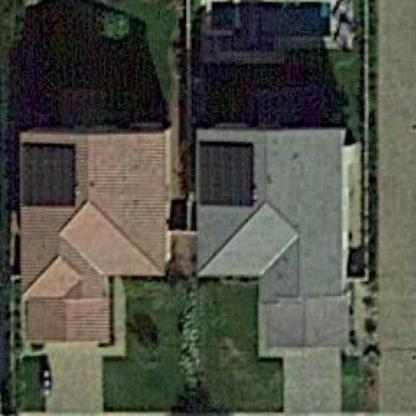solar_panel: (23, 137, 100, 217), (196, 135, 268, 214)
swimming_pool: (179, 1, 373, 76)
